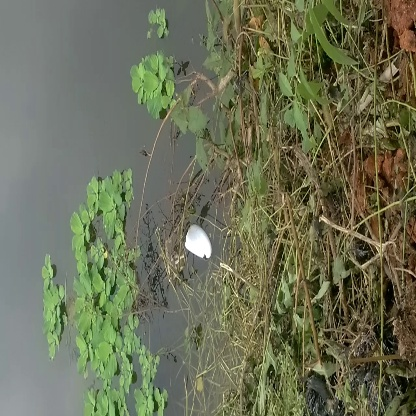leaf: (130, 44, 183, 115)
